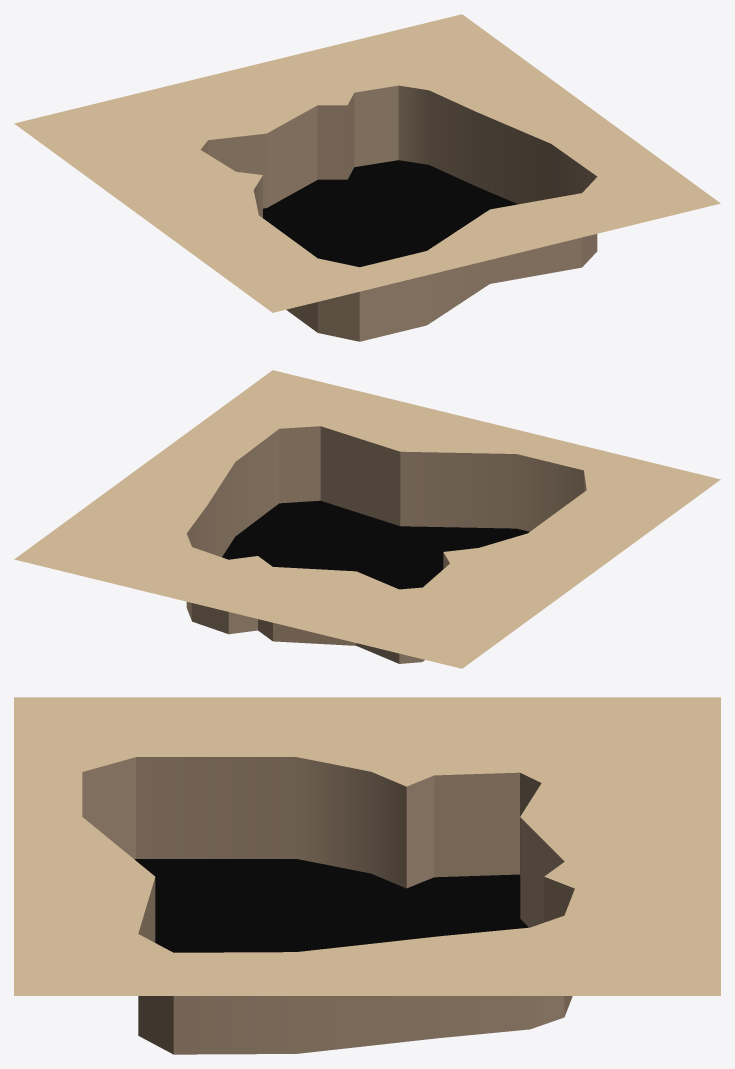
Rendered from FloorPit.fbx.
3 views of the same model, one above another, from view 1: azimuth 30°, elevation 25°; view 2: azimuth 150°, elevation 25°; view 3: azimuth 270°, elevation 25° (orthographic). The views are drawn at different scales.
Parts seen in each view (by area): view 1: FloorPit; view 2: FloorPit; view 3: FloorPit.
Boxes of the visible parts, left/top/right/bottom form: FloorPit: left=14, top=14, right=720, bottom=341; FloorPit: left=14, top=370, right=720, bottom=668; FloorPit: left=14, top=697, right=720, bottom=1054.
Size of the model in its own units: 5 by 0.7948 by 5.
